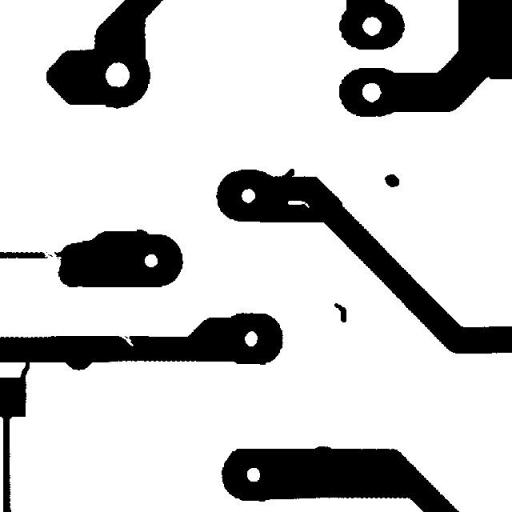copper: (326, 295, 354, 330), (377, 166, 406, 194)
mousebite: (110, 324, 141, 354)
open: (36, 241, 69, 270)
pin-hole: (280, 193, 317, 215)
short: (12, 354, 37, 390)
spur: (274, 161, 302, 188)
